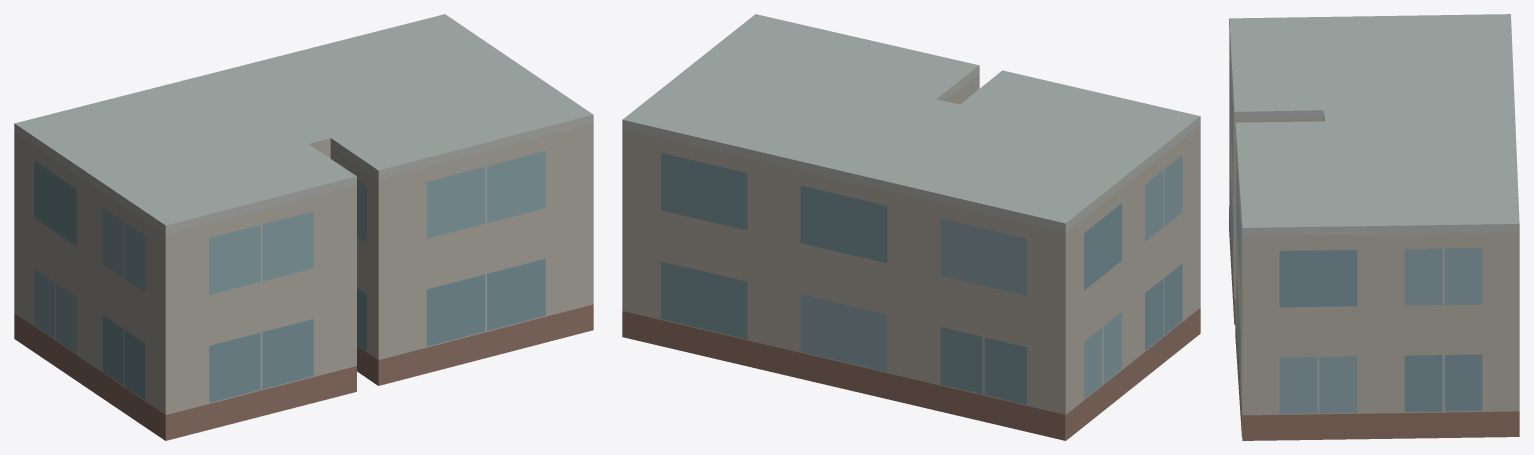
The model's file is survey-upis-32767858.glb.
3 renders of one model, left to right at view 1: azimuth 30°, elevation 25°; view 2: azimuth 150°, elevation 25°; view 3: azimuth 270°, elevation 25°, orthographic. The views are drawn at different scales.
Parts seen in each view (by area): view 1: survey-upis-32767858.tmp; view 2: survey-upis-32767858.tmp; view 3: survey-upis-32767858.tmp.
Part boxes in pixels (x1,y1,x2,y2): survey-upis-32767858.tmp: (14, 14, 593, 440); survey-upis-32767858.tmp: (622, 14, 1200, 440); survey-upis-32767858.tmp: (1229, 14, 1519, 440).
Bounding box in the file's own units: 13.15 × 6.1 × 7.55.
